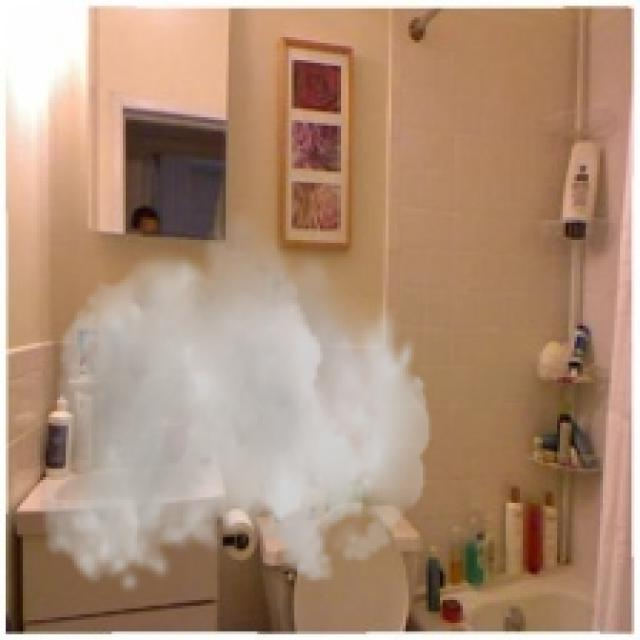smoke: (40, 203, 431, 597)
